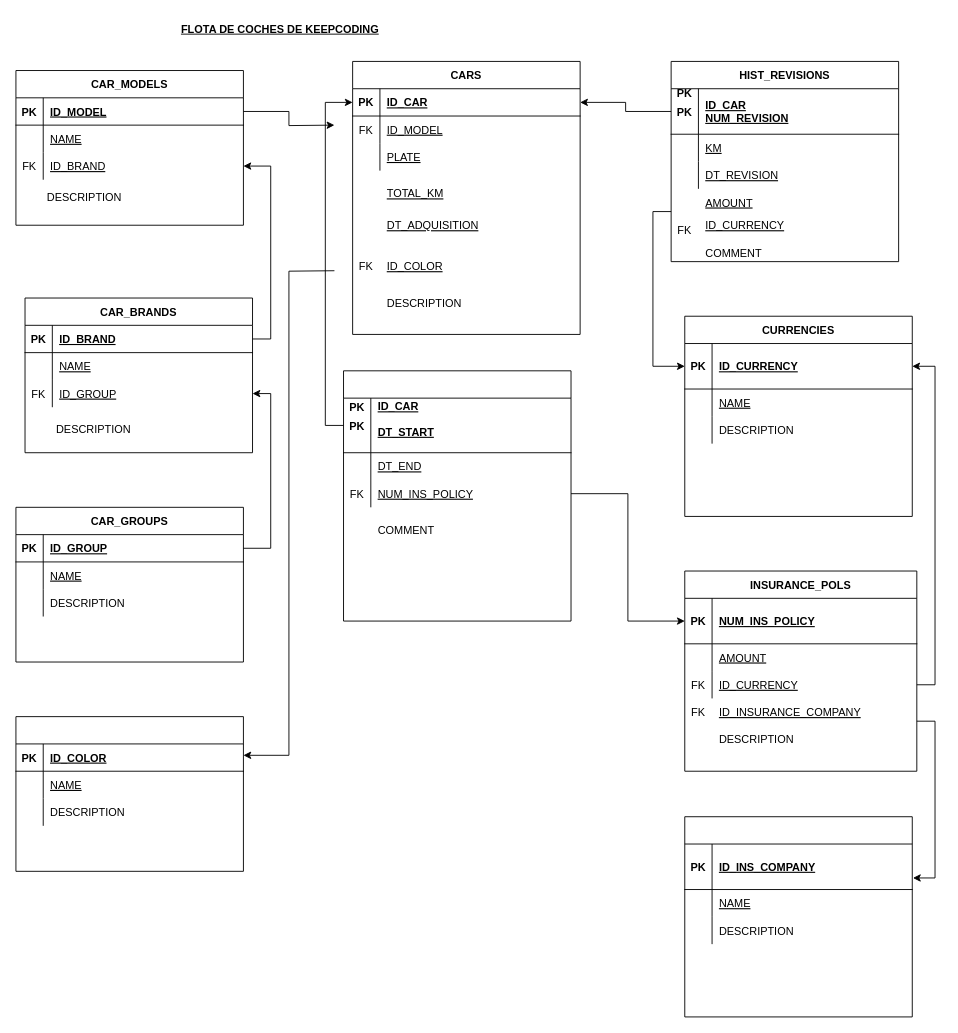
Image size: 958x1033. Some labels were removed from this diagram. Each missing label, with the box of its shape:
COLORS: (15, 716, 243, 871)
INSURACE_POL: (343, 370, 571, 621)
INSURANCE_COMPS: (684, 816, 912, 1017)
